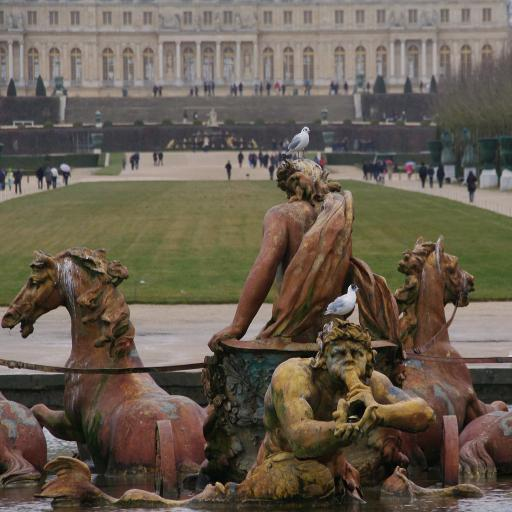horse: (0, 248, 210, 474), (392, 231, 508, 472)
